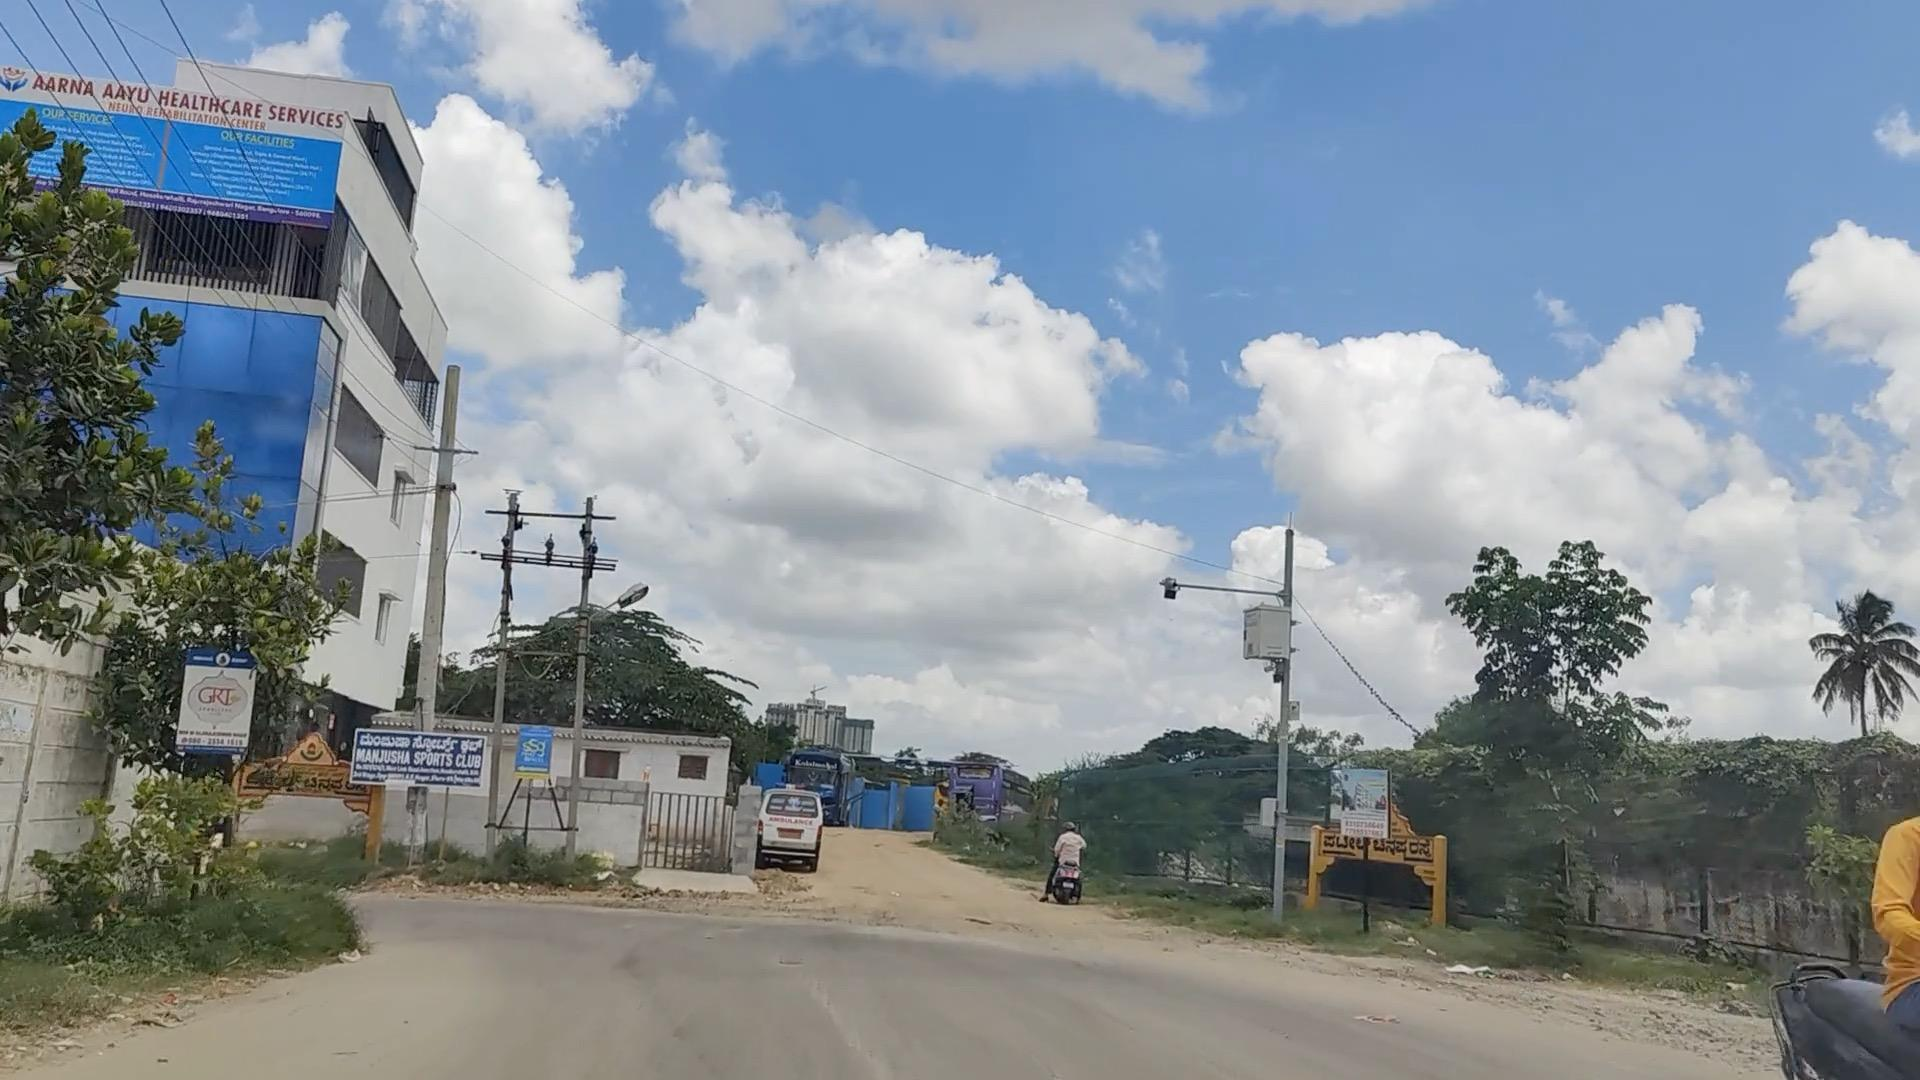LMV: (757, 787, 828, 865), (1052, 820, 1091, 899)
